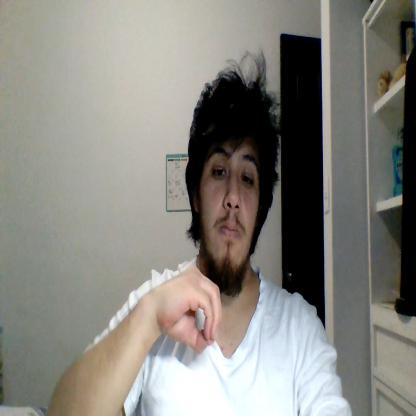O: (162, 264, 222, 354)
